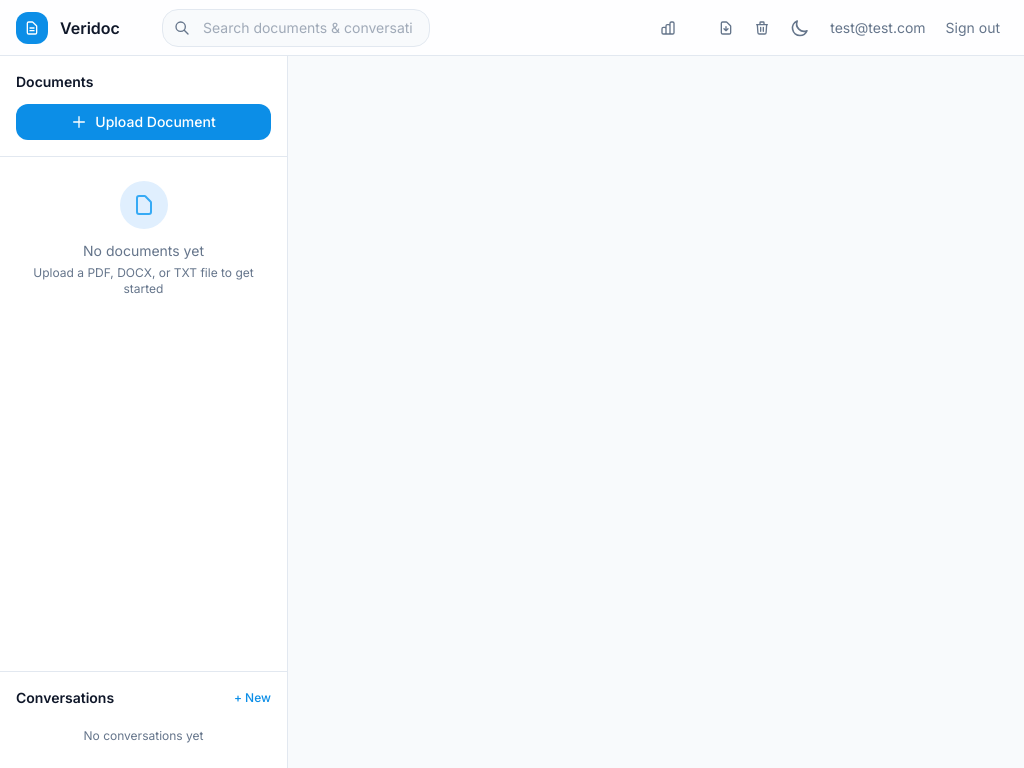
Test: Dashboard page — delete account dialog › shows delete confirmation when delete button is clicked
Click the button named "Delete account": x=762, y=28 [746,12,778,44]
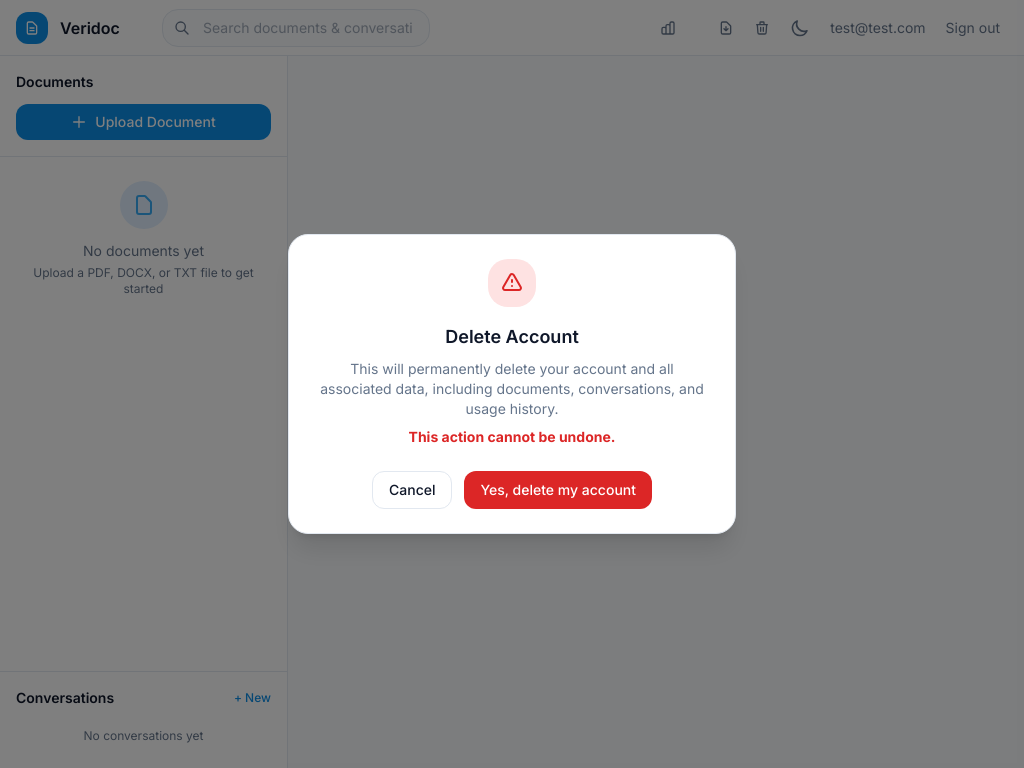
Result: the heading "Delete Account" is shown at [445,326,579,347]
Result: the text "This action cannot be undone." is shown at [408,428,615,445]
